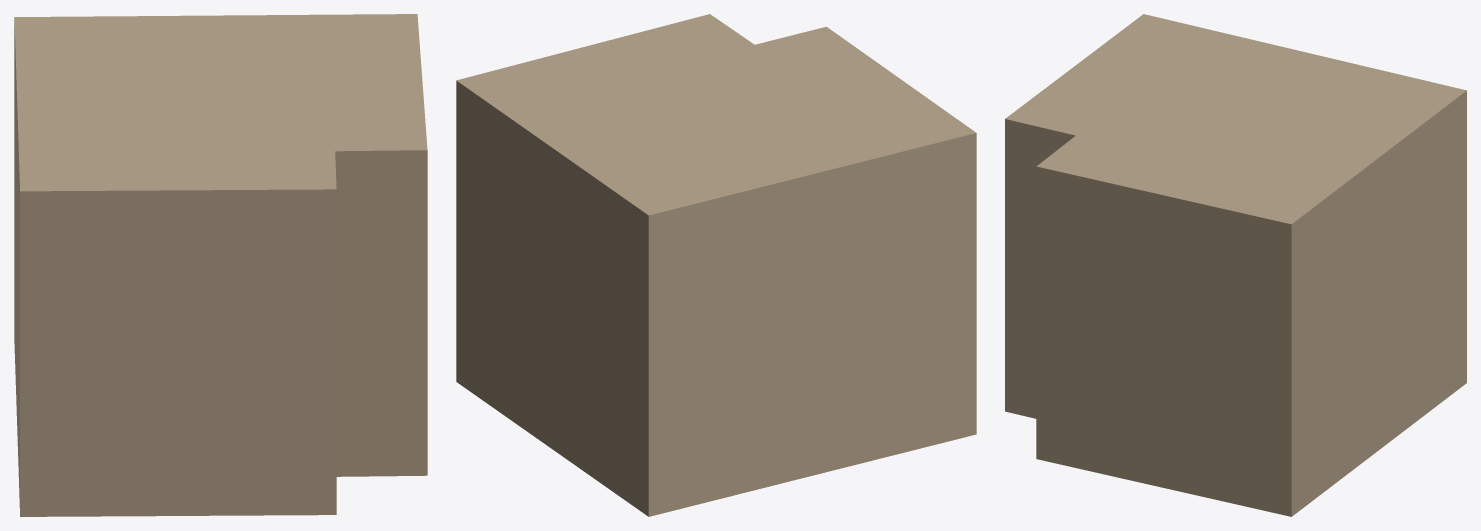
The model's file is bld_99531938.dae.
3 renders of one model, left to right at view 1: azimuth 30°, elevation 25°; view 2: azimuth 150°, elevation 25°; view 3: azimuth 270°, elevation 25°, orthographic. The views are drawn at different scales.
Visible parts, largest first — view 1: bld_99531938; view 2: bld_99531938; view 3: bld_99531938.
Boxes of the visible parts, x1,y1,x2,y2 form: bld_99531938: (14, 14, 427, 516); bld_99531938: (456, 14, 976, 516); bld_99531938: (1005, 14, 1466, 516).
Size of the model in its own units: 12.33 by 11.45 by 8.
